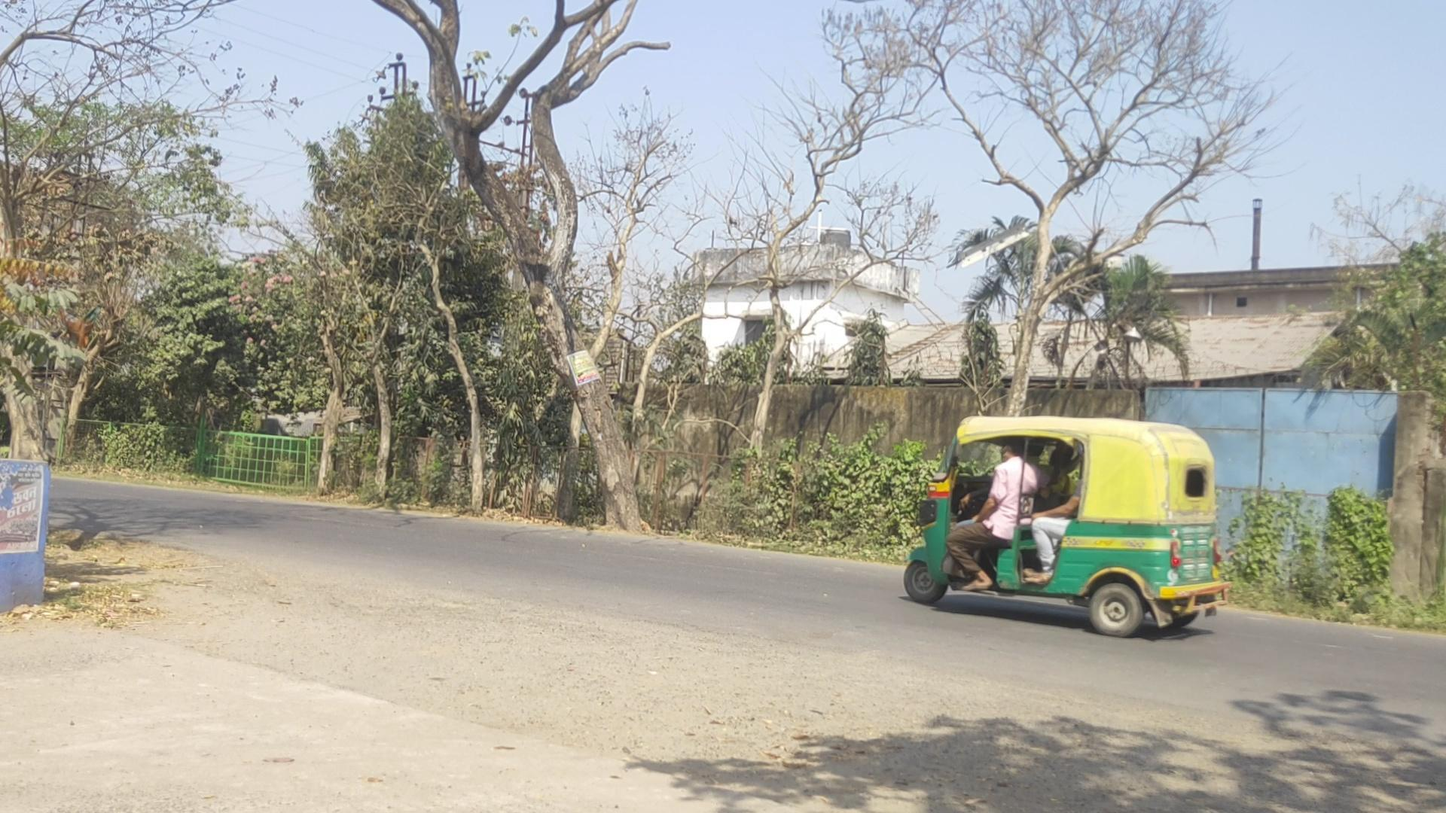Auto: (903, 415, 1231, 638)
